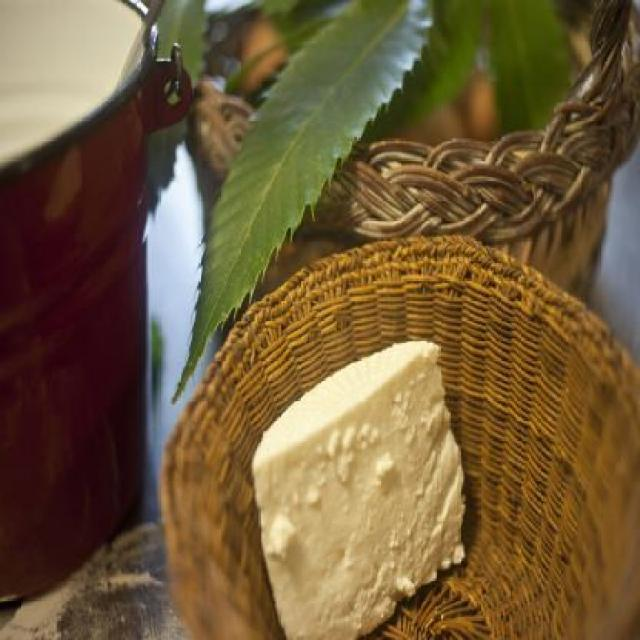Cheese: (250, 335, 468, 639)
